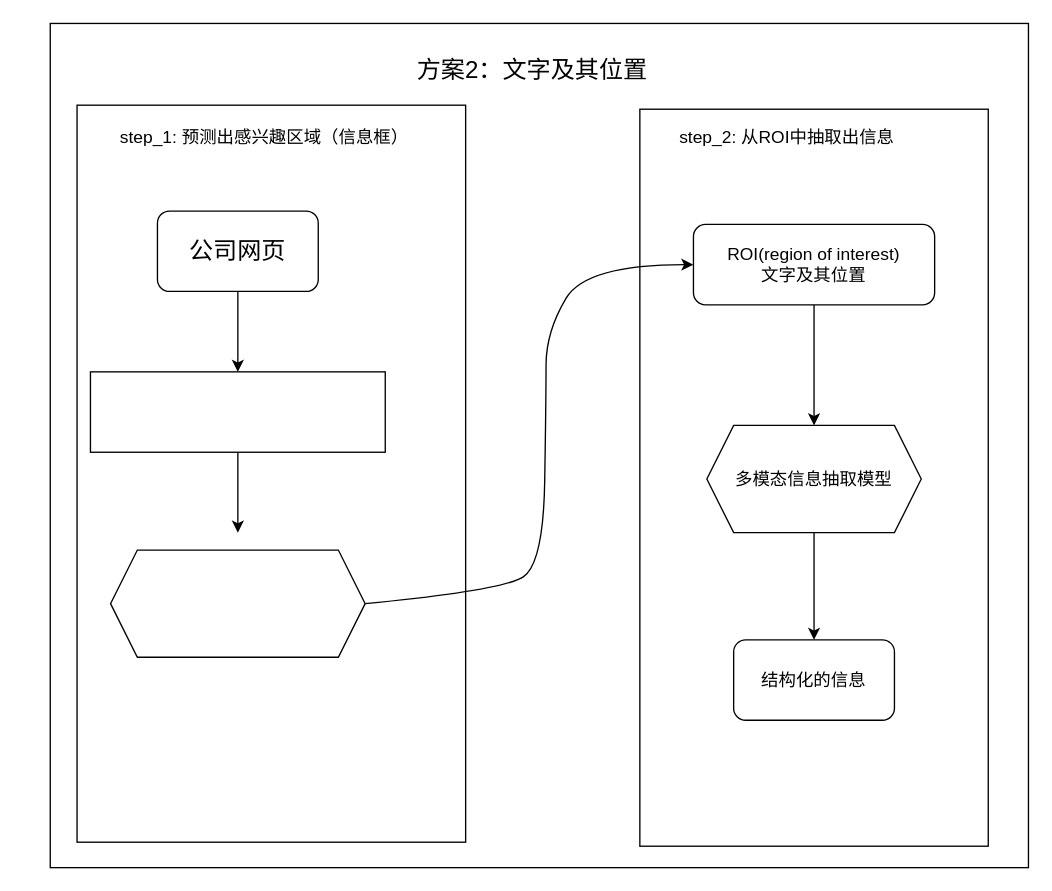
This 1052x891 diagram has some shape labels left out. Each missing label, with the centre of its shape:
"文字及其位置信息 预测ROI(region of interest)" belongs at pixel 237 603.
"网页中的元素及其位置信息保留" belongs at pixel 237 411.
